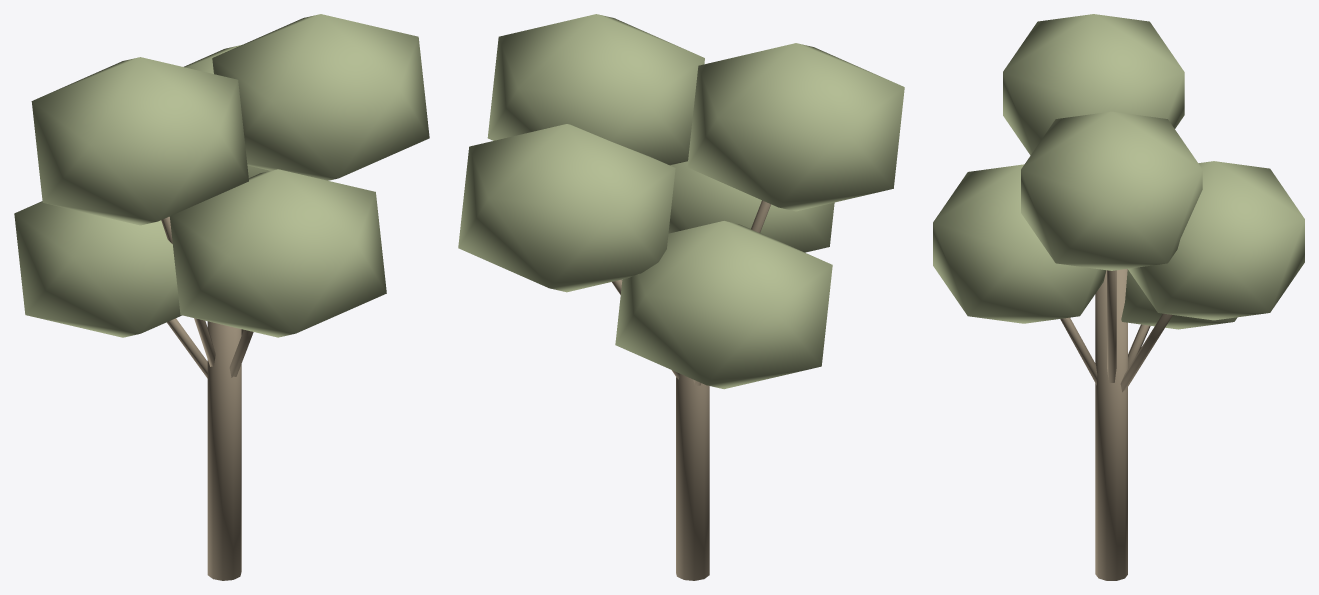
File: arizona-juniper_lod1.glb
3 views of the same model, side by side, from view 1: azimuth 30°, elevation 25°; view 2: azimuth 150°, elevation 25°; view 3: azimuth 270°, elevation 25° (orthographic). The views are drawn at different scales.
Visible parts, largest first — view 1: RF_Foliage.004, RF_Foliage.002, RF_Foliage, RF_Foliage.001, RF_Trunk, RF_Branch, RF_Branch.002, RF_Foliage.003; view 2: RF_Foliage.004, RF_Foliage.003, RF_Foliage.001, RF_Foliage, RF_Trunk, RF_Foliage.002; view 3: RF_Foliage, RF_Foliage.003, RF_Foliage.004, RF_Foliage.002, RF_Trunk, RF_Foliage.001, RF_Branch.001, RF_Branch.004, RF_Branch.003.
Boxes of the visible parts, <box> form: RF_Foliage.004: <box>31,57,248,225</box>; RF_Foliage.002: <box>169,169,386,337</box>; RF_Foliage: <box>212,14,429,180</box>; RF_Foliage.001: <box>14,201,181,337</box>; RF_Trunk: <box>207,321,241,580</box>; RF_Branch: <box>161,216,215,367</box>; RF_Branch.002: <box>167,318,207,378</box>; RF_Foliage.003: <box>184,45,270,177</box>; RF_Foliage.004: <box>687,43,904,211</box>; RF_Foliage.003: <box>458,124,675,292</box>; RF_Foliage.001: <box>615,221,832,389</box>; RF_Foliage: <box>487,14,704,165</box>; RF_Trunk: <box>676,374,709,580</box>; RF_Foliage.002: <box>668,161,834,252</box>; RF_Foliage: <box>1021,111,1202,270</box>; RF_Foliage.003: <box>1128,161,1304,320</box>; RF_Foliage.004: <box>1003,14,1184,155</box>; RF_Foliage.002: <box>933,164,1106,323</box>; RF_Trunk: <box>1095,269,1127,580</box>; RF_Foliage.001: <box>1121,269,1237,329</box>; RF_Branch.001: <box>1107,270,1116,382</box>; RF_Branch.004: <box>1120,313,1172,392</box>; RF_Branch.003: <box>1060,317,1097,385</box>.
Size of the model in its own units: 3.35 by 4.54 by 2.96.
